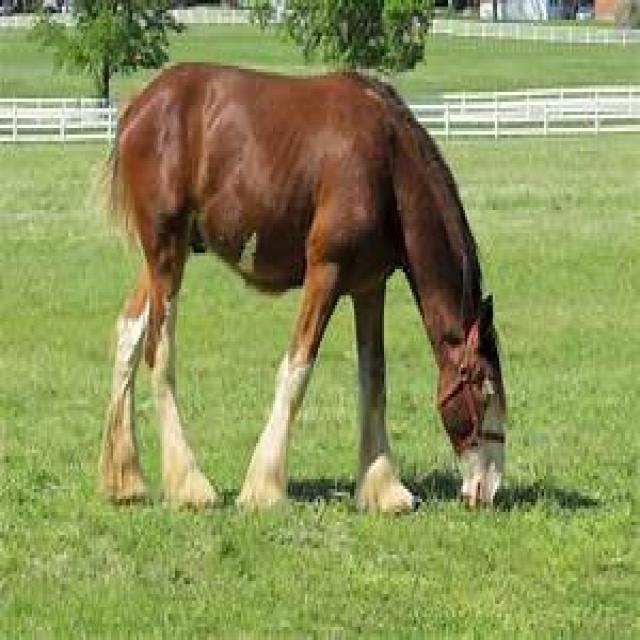horse: (101, 63, 505, 511)
